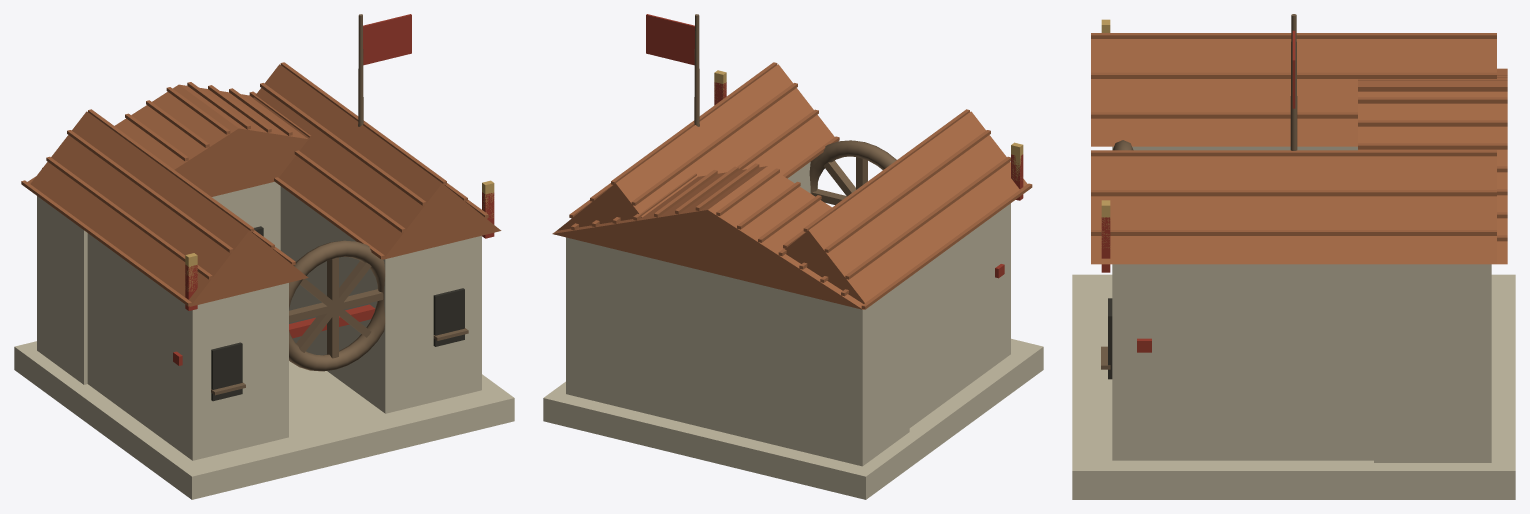
Rendered from b-mill-roman.glb.
3 renders of one model, left to right at view 1: azimuth 30°, elevation 25°; view 2: azimuth 150°, elevation 25°; view 3: azimuth 270°, elevation 25°, orthographic. The views are drawn at different scales.
Parts seen in each view (by area): view 1: Structure, rotor, era1, era3; view 2: Structure, rotor; view 3: Structure.
Boxes of the visible parts, x1,y1,x2,y2 form: Structure: (14, 14, 514, 499); rotor: (289, 240, 385, 371); era1: (185, 201, 494, 310); era3: (185, 180, 494, 291); Structure: (543, 14, 1043, 499); rotor: (809, 140, 896, 204); Structure: (1072, 14, 1515, 499).
Bounding box in the file's own units: 4.35 × 4.6 × 4.15.
